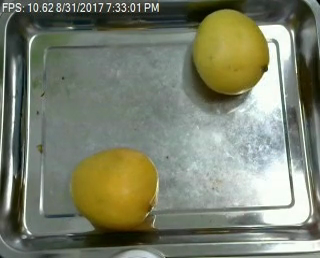Mango: (70, 146, 157, 228), (190, 10, 269, 94)
